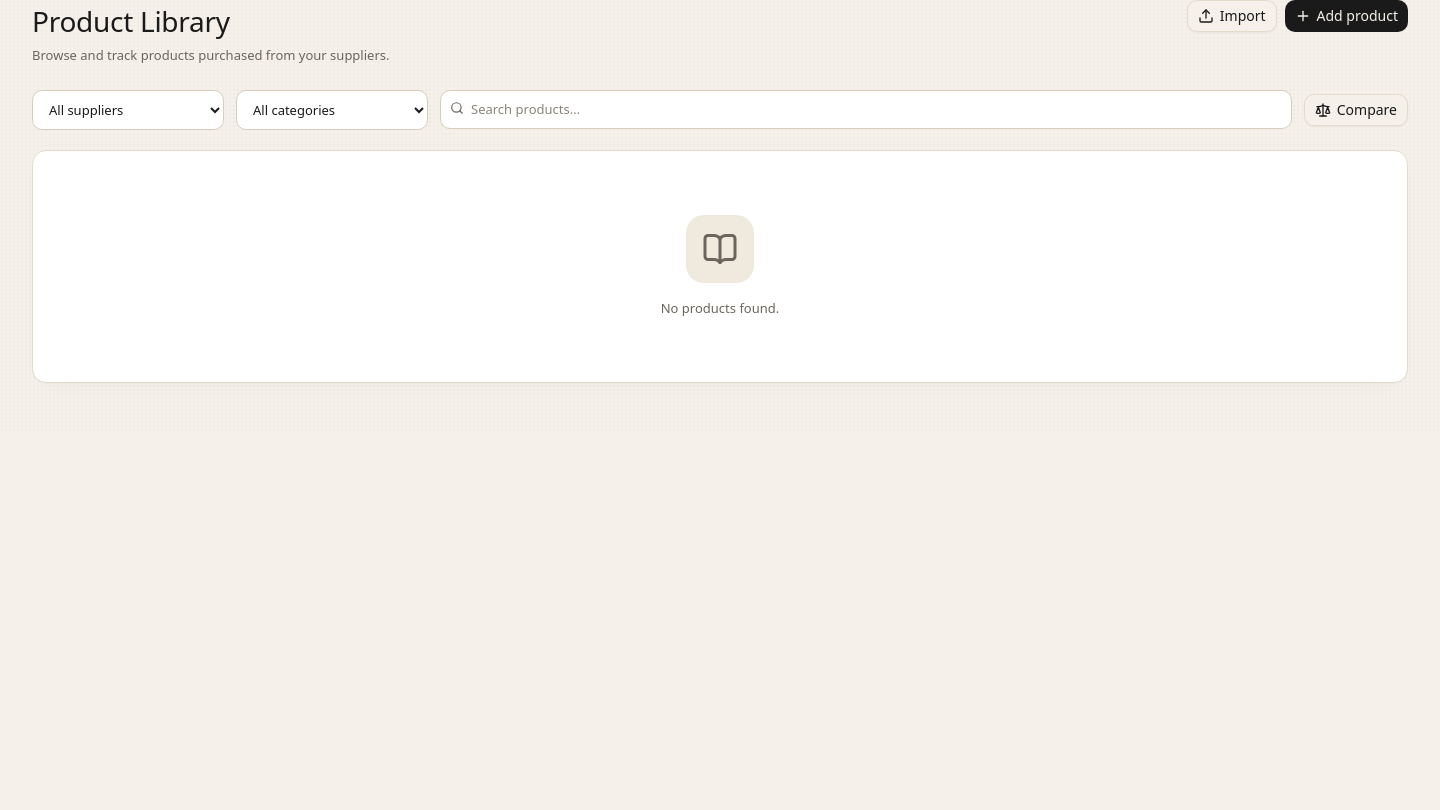
Scenario: BibliothequePageClient import action › opens the purchase import for a library manager
This screenshot has width=1440, height=810.
expect the text "No products found." is shown: met, box [661, 298, 779, 318]
Click the button "Import".
click(1232, 16)  # box [1187, 0, 1277, 32]
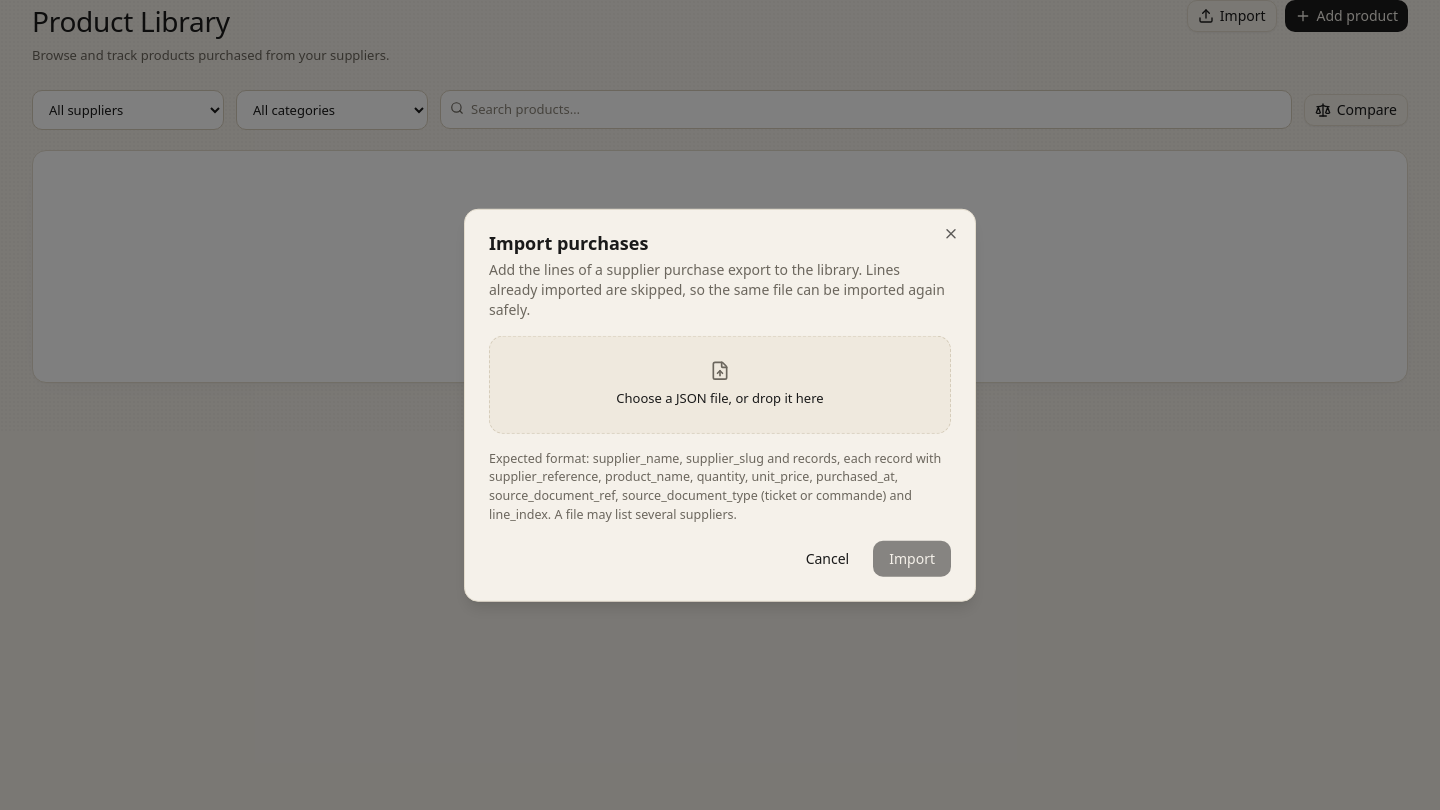
expect the heading "Import purchases" is shown: met, box [489, 231, 648, 255]
